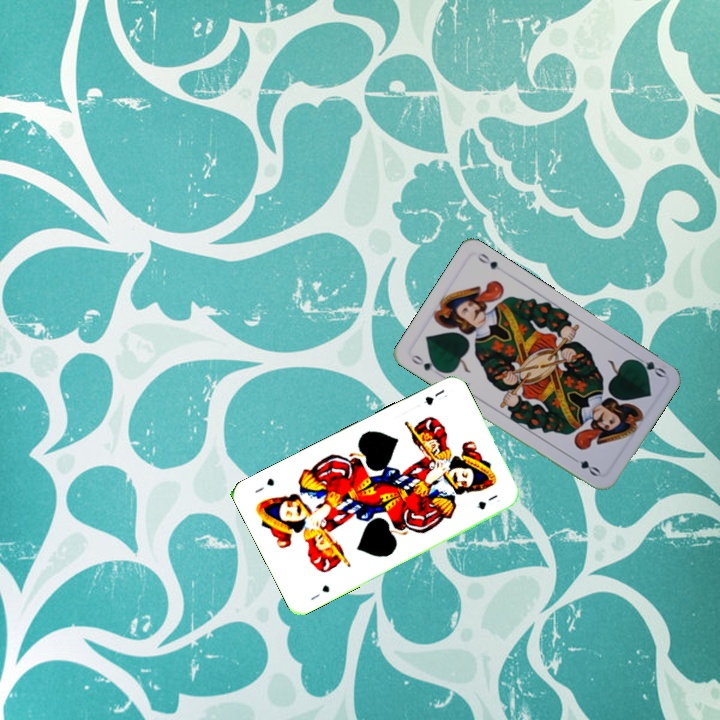GO: (629, 351, 668, 380), (407, 351, 445, 379)
GU: (420, 385, 447, 408), (306, 581, 332, 603)
